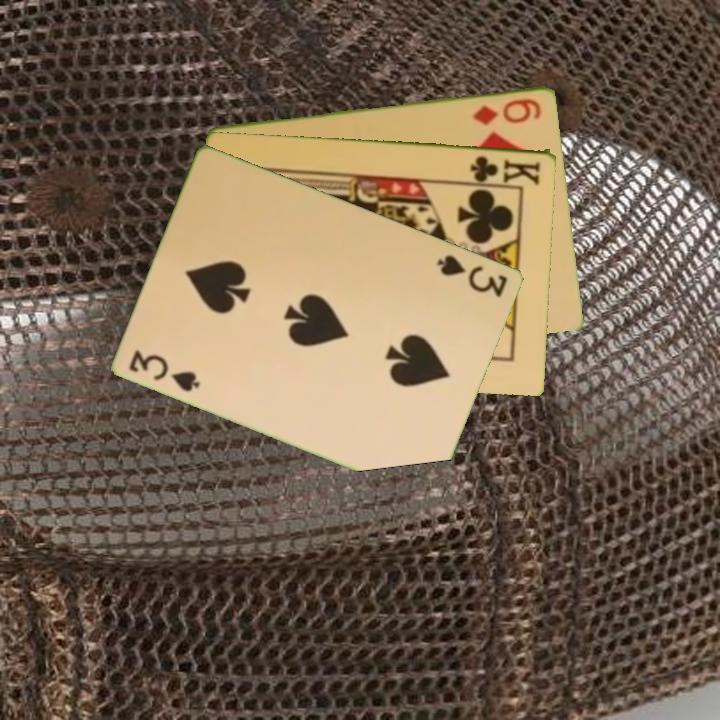3s: (434, 250, 511, 300), (126, 346, 204, 395)
6d: (470, 94, 544, 128)
Kc: (467, 152, 544, 186)
